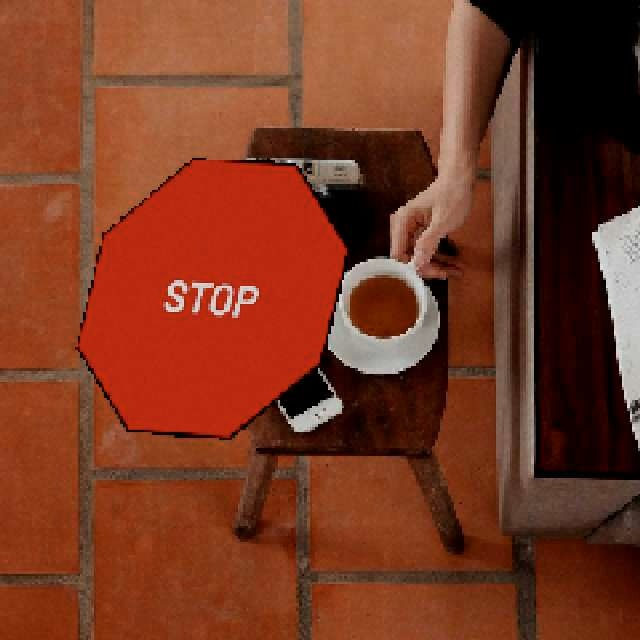STOP: (74, 156, 349, 438)
